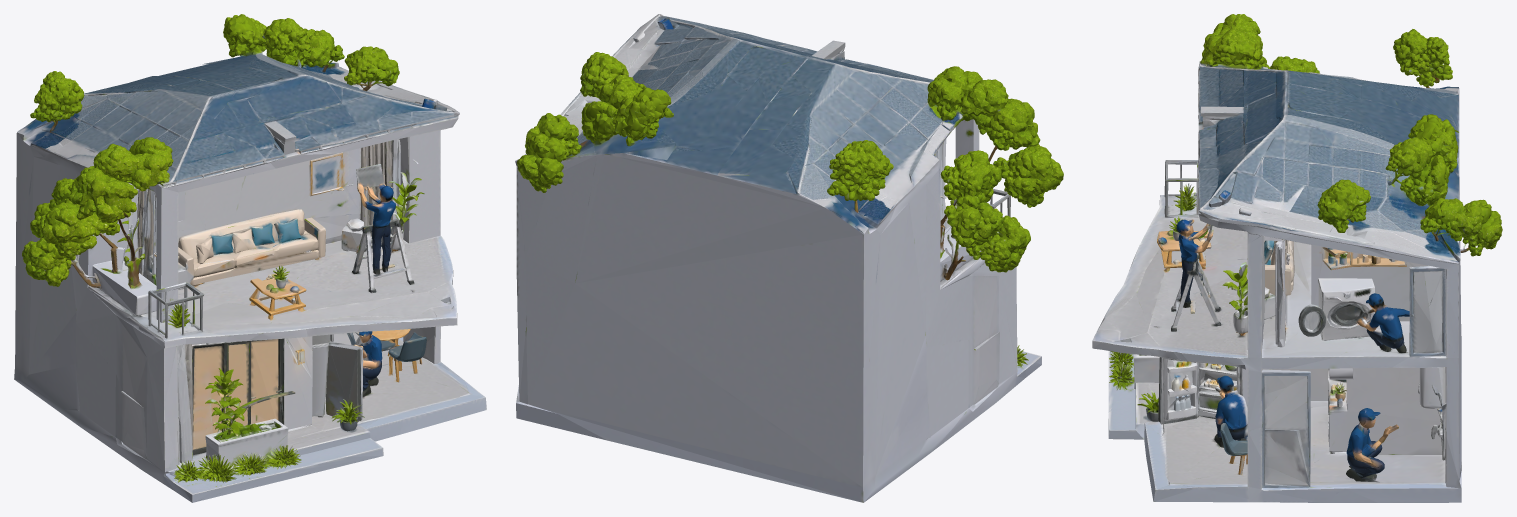
File: house-meshy.glb
3 renders of one model, left to right at view 1: azimuth 30°, elevation 25°; view 2: azimuth 150°, elevation 25°; view 3: azimuth 270°, elevation 25°, orthographic. The views are drawn at different scales.
Visible parts, largest first — view 1: Mesh_0; view 2: Mesh_0; view 3: Mesh_0.
Boxes of the visible parts, x1,y1,x2,y2 form: Mesh_0: (14,14,486,502); Mesh_0: (515,14,1063,502); Mesh_0: (1092,14,1502,502).
Bounding box in the file's own units: 1.9 × 1.46 × 1.63.
Materials: 1 (1 with a texture image).
